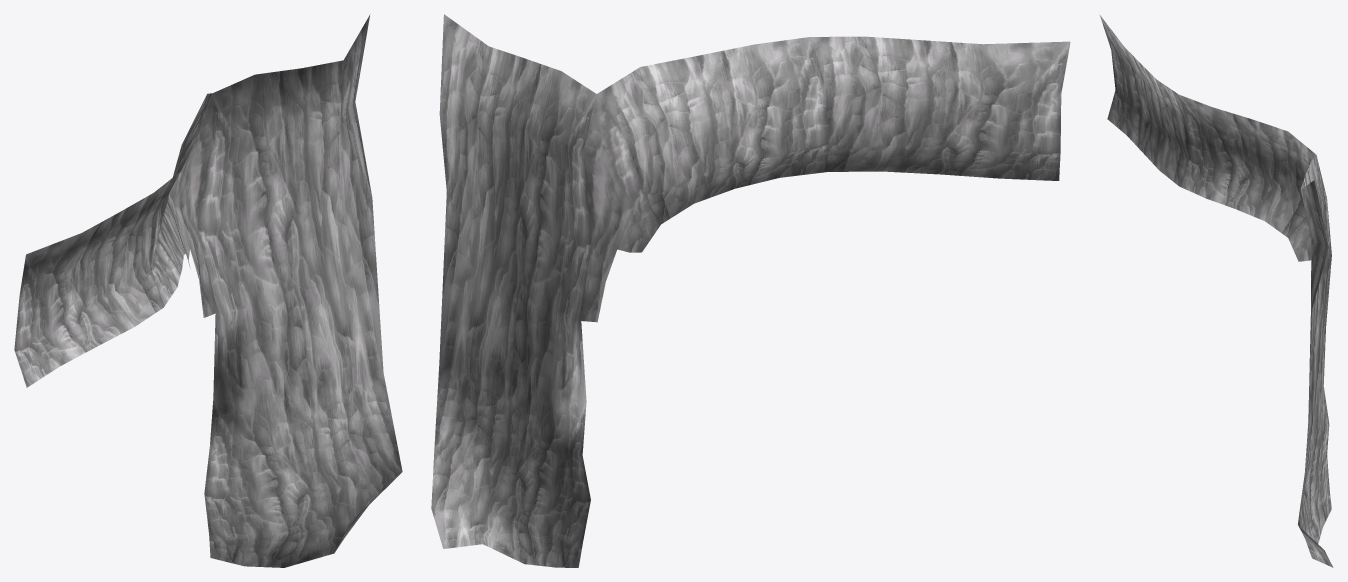
The model's file is SWORDLIGHT20_PS-AREA03_161.fbx.
3 renders of one model, left to right at view 1: azimuth 30°, elevation 25°; view 2: azimuth 150°, elevation 25°; view 3: azimuth 270°, elevation 25°, orthographic. The views are drawn at different scales.
Parts seen in each view (by area): view 1: SWORDLIGHT20_PS-AREA03_161; view 2: SWORDLIGHT20_PS-AREA03_161; view 3: SWORDLIGHT20_PS-AREA03_161.
Part boxes in pixels (left/top/right/bottom): SWORDLIGHT20_PS-AREA03_161: left=14, top=14, right=402, bottom=567; SWORDLIGHT20_PS-AREA03_161: left=431, top=14, right=1070, bottom=567; SWORDLIGHT20_PS-AREA03_161: left=1099, top=14, right=1333, bottom=567.
Bounding box in the file's own units: 152882 × 152905 × 81864.
2 materials, 2 textured.
